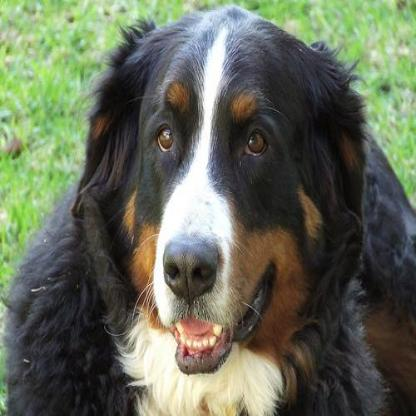Bernese_mountain_dog: (2, 5, 414, 413)
